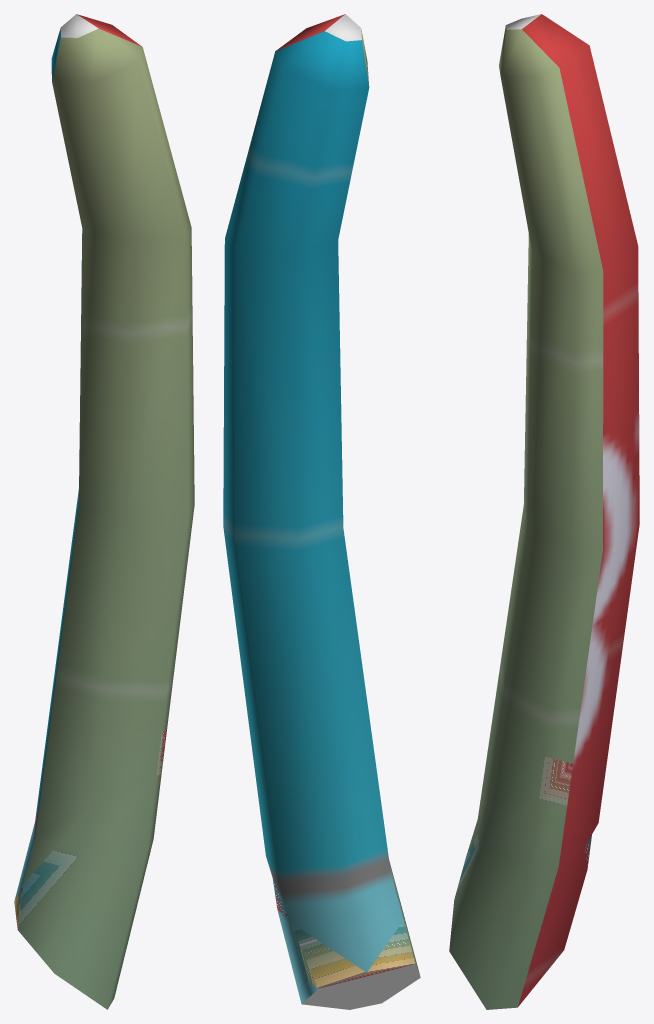
File: LongVase_SHAT_cell_008.fbx
3 views of the same model, side by side, from view 1: azimuth 30°, elevation 25°; view 2: azimuth 150°, elevation 25°; view 3: azimuth 330°, elevation 25° (orthographic). The views are drawn at different scales.
Visible parts, largest first — view 1: LongVase_SHAT_cell_008; view 2: LongVase_SHAT_cell_008; view 3: LongVase_SHAT_cell_008.
Part boxes in pixels (<box>): LongVase_SHAT_cell_008: <box>14,14,194,1009</box>; LongVase_SHAT_cell_008: <box>223,14,420,1009</box>; LongVase_SHAT_cell_008: <box>449,14,639,1009</box>.
Size of the model in its own units: 0.0716 by 0.4064 by 0.0468.
2 materials, 1 textured.
